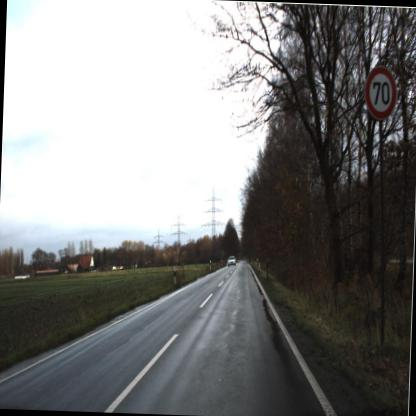prohibitory: (363, 61, 398, 126)
